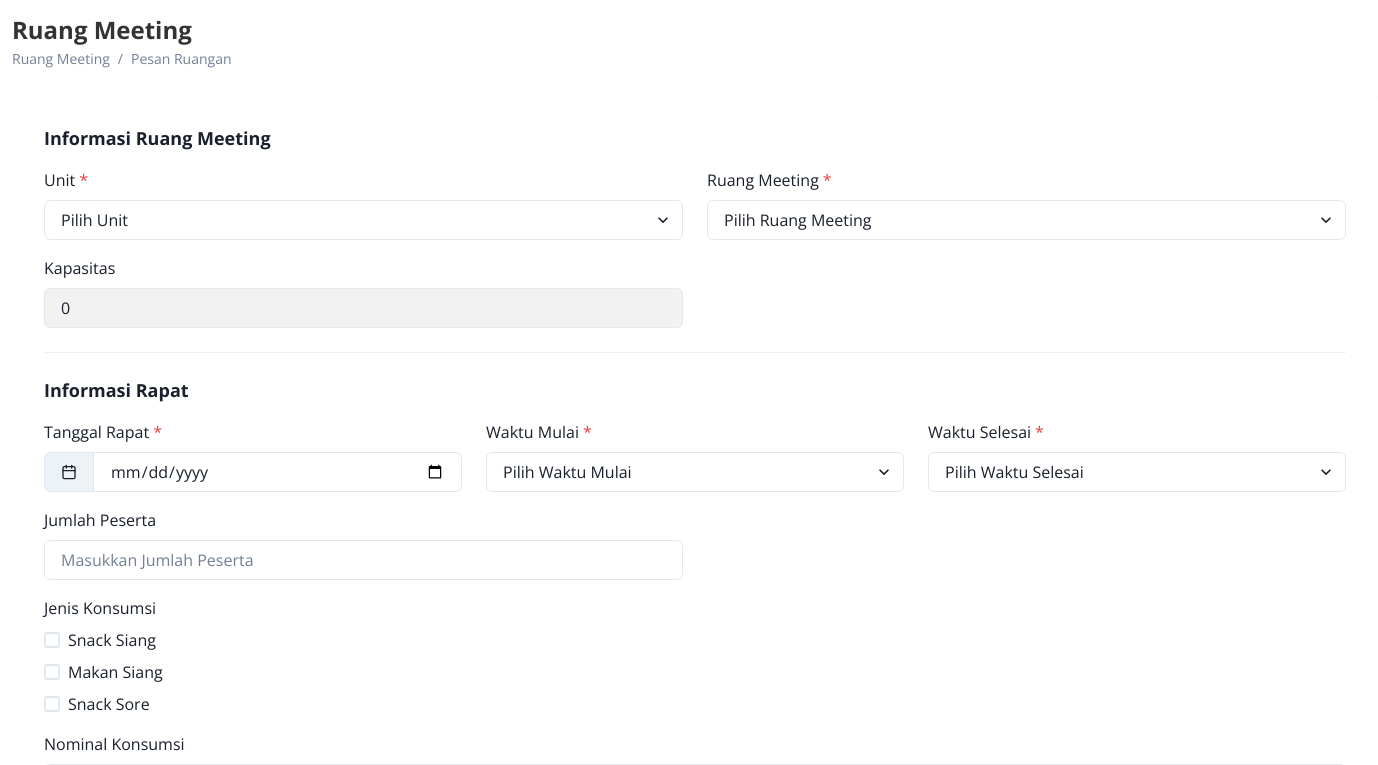
Test: BookMeeting Component › should update capacity when room is selected
The width and height of the screenshot is (1378, 765).
Select "UID BALI" in the dropdown with test id "unit-select": (364, 220) [44, 200, 683, 240]
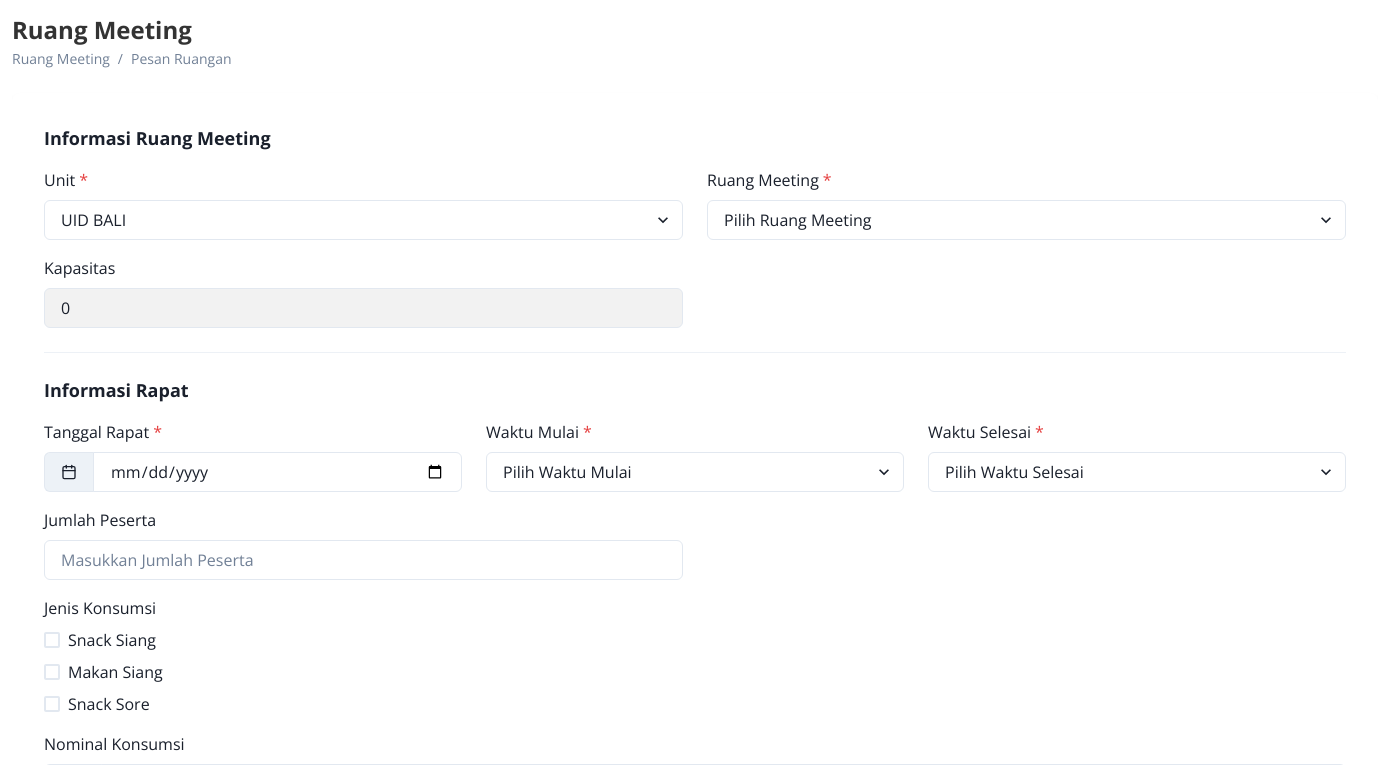
Select "Ruang Ganesha" in the dropdown labelled "Ruang Meeting*": (1026, 220) [707, 200, 1346, 240]
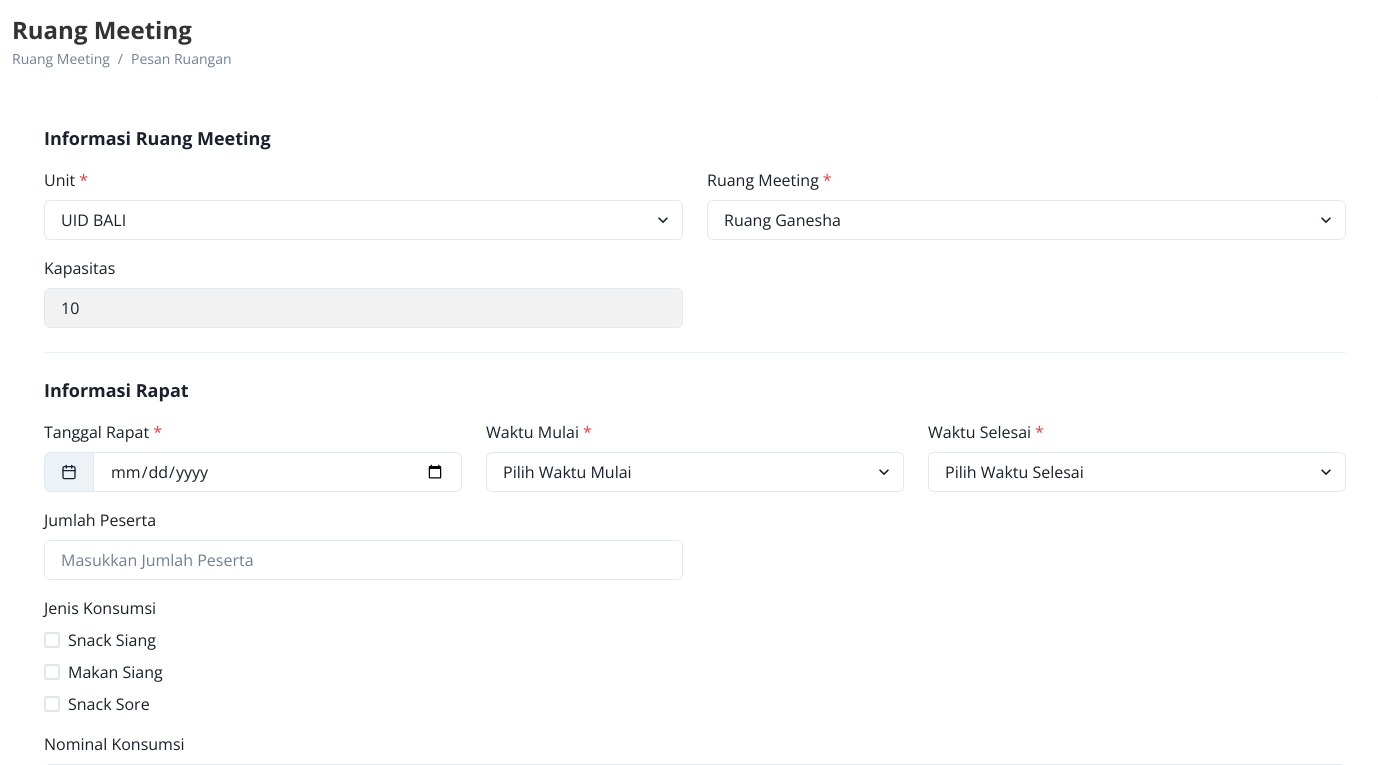
Check: the field labelled "Kapasitas" holds "10", box [44, 288, 683, 328]
